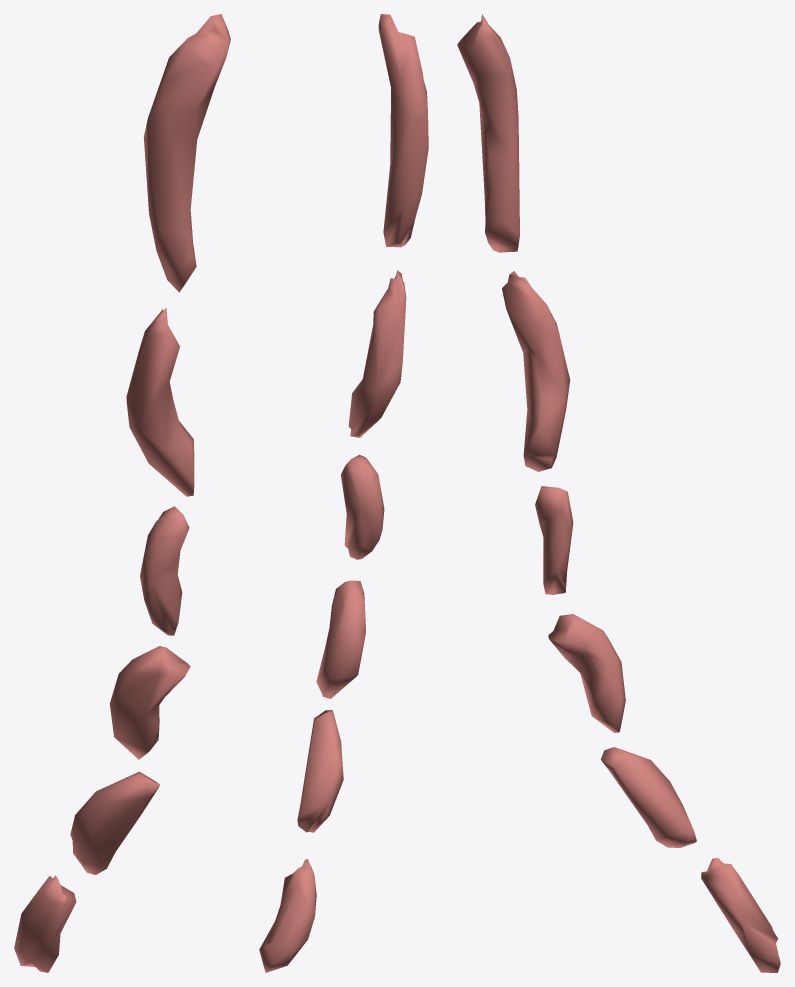
3 renders of one model, left to right at view 1: azimuth 30°, elevation 25°; view 2: azimuth 150°, elevation 25°; view 3: azimuth 270°, elevation 25°, orthographic. The views are drawn at different scales.
Parts seen in each view (by area): view 1: ZA_d18a825cff78aaad; view 2: ZA_d18a825cff78aaad; view 3: ZA_d18a825cff78aaad.
Part boxes in pixels (x1,y1,x2,y2): ZA_d18a825cff78aaad: [14, 14, 230, 972]; ZA_d18a825cff78aaad: [259, 14, 428, 972]; ZA_d18a825cff78aaad: [457, 14, 780, 972].
Size of the model in its own units: 0.00681 by 0.0903 by 0.0275.
